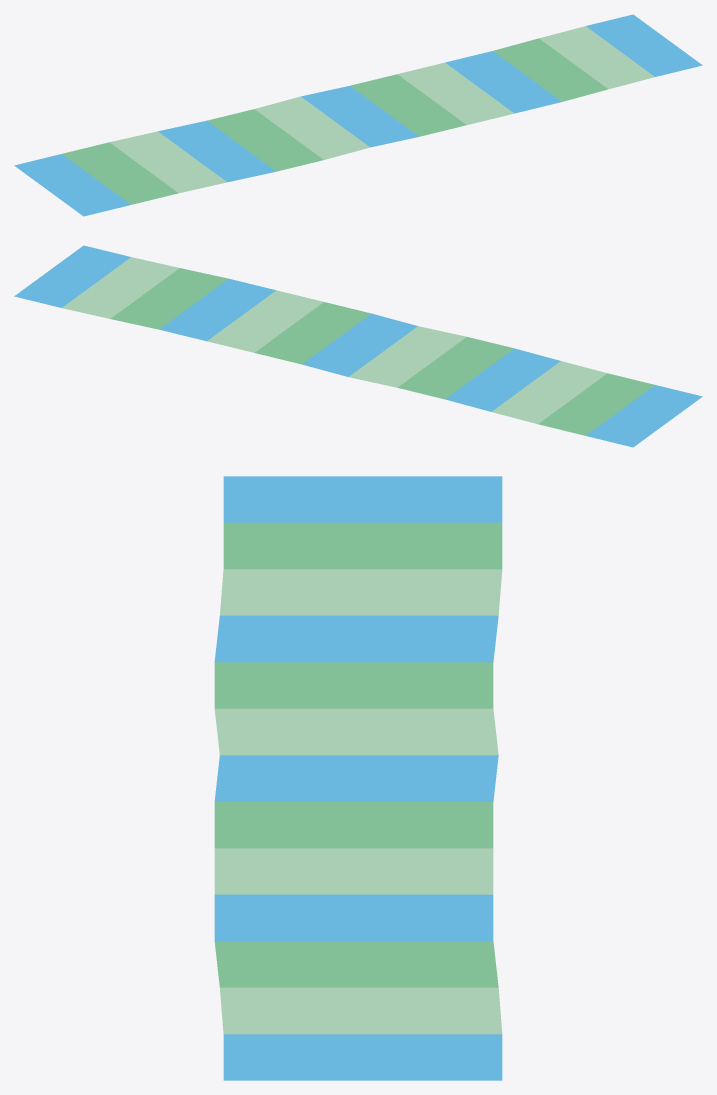
File: carpet_018.glb
3 views of the same model, one above another, from view 1: azimuth 30°, elevation 25°; view 2: azimuth 150°, elevation 25°; view 3: azimuth 270°, elevation 25° (orthographic). The views are drawn at different scales.
Parts seen in each view (by area): view 1: carpet_018; view 2: carpet_018; view 3: carpet_018.
Boxes of the visible parts, bbox=[...] form: carpet_018: bbox=[14, 14, 702, 216]; carpet_018: bbox=[14, 245, 702, 447]; carpet_018: bbox=[214, 476, 502, 1080].
Bounding box in the file's own units: 3.46 × 0 × 0.6956.
1 material, 1 textured.
